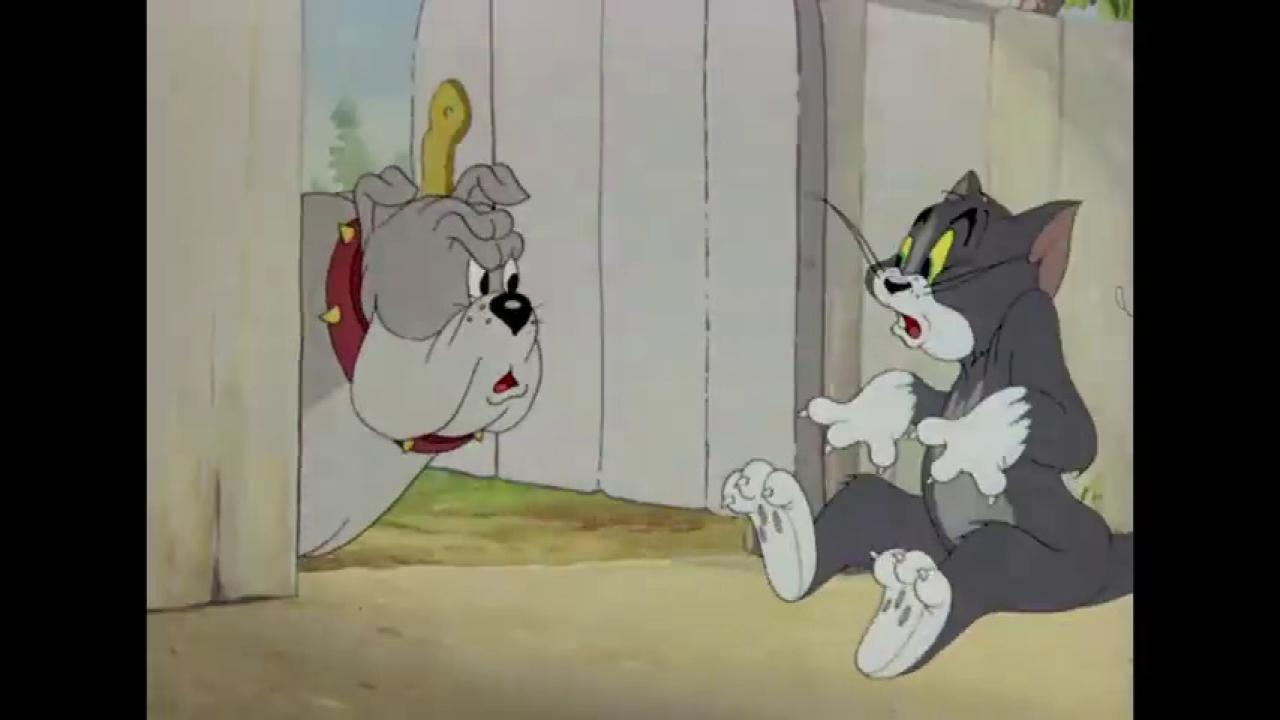Tom: (719, 166, 1133, 682)
